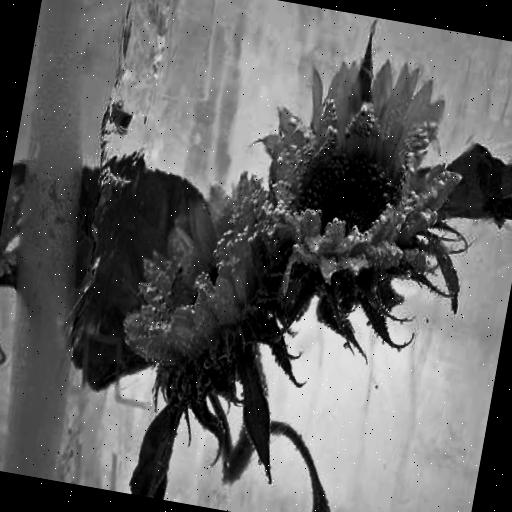sunflower: (250, 41, 480, 301), (116, 155, 288, 384)
